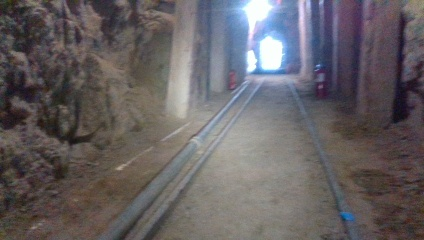drill: (226, 68, 238, 90)
fire_extinguisher: (312, 58, 327, 99)
manikin: (245, 41, 258, 75)
